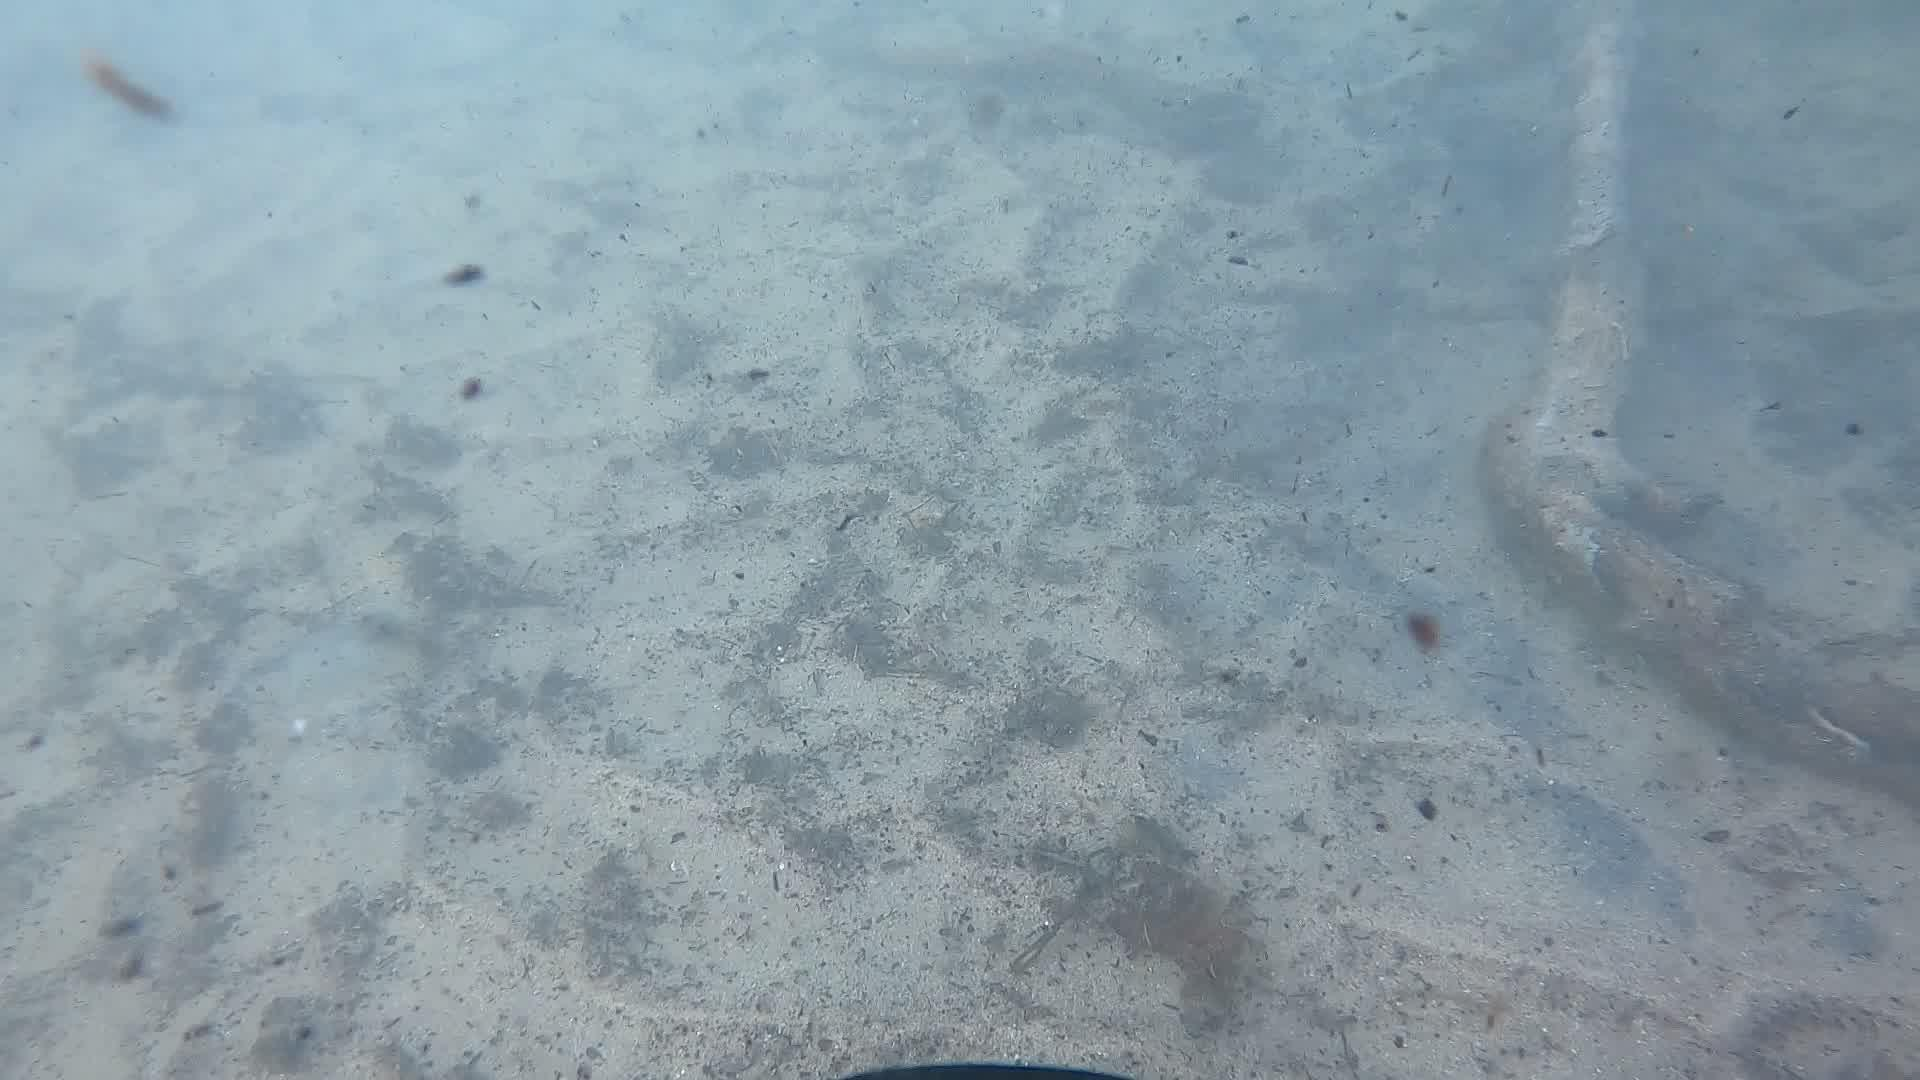wood: (1474, 5, 1920, 819)
